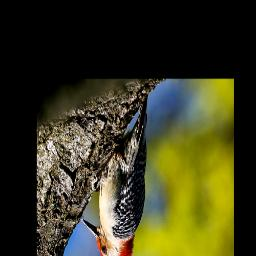Woodpecker: (79, 97, 148, 256)
